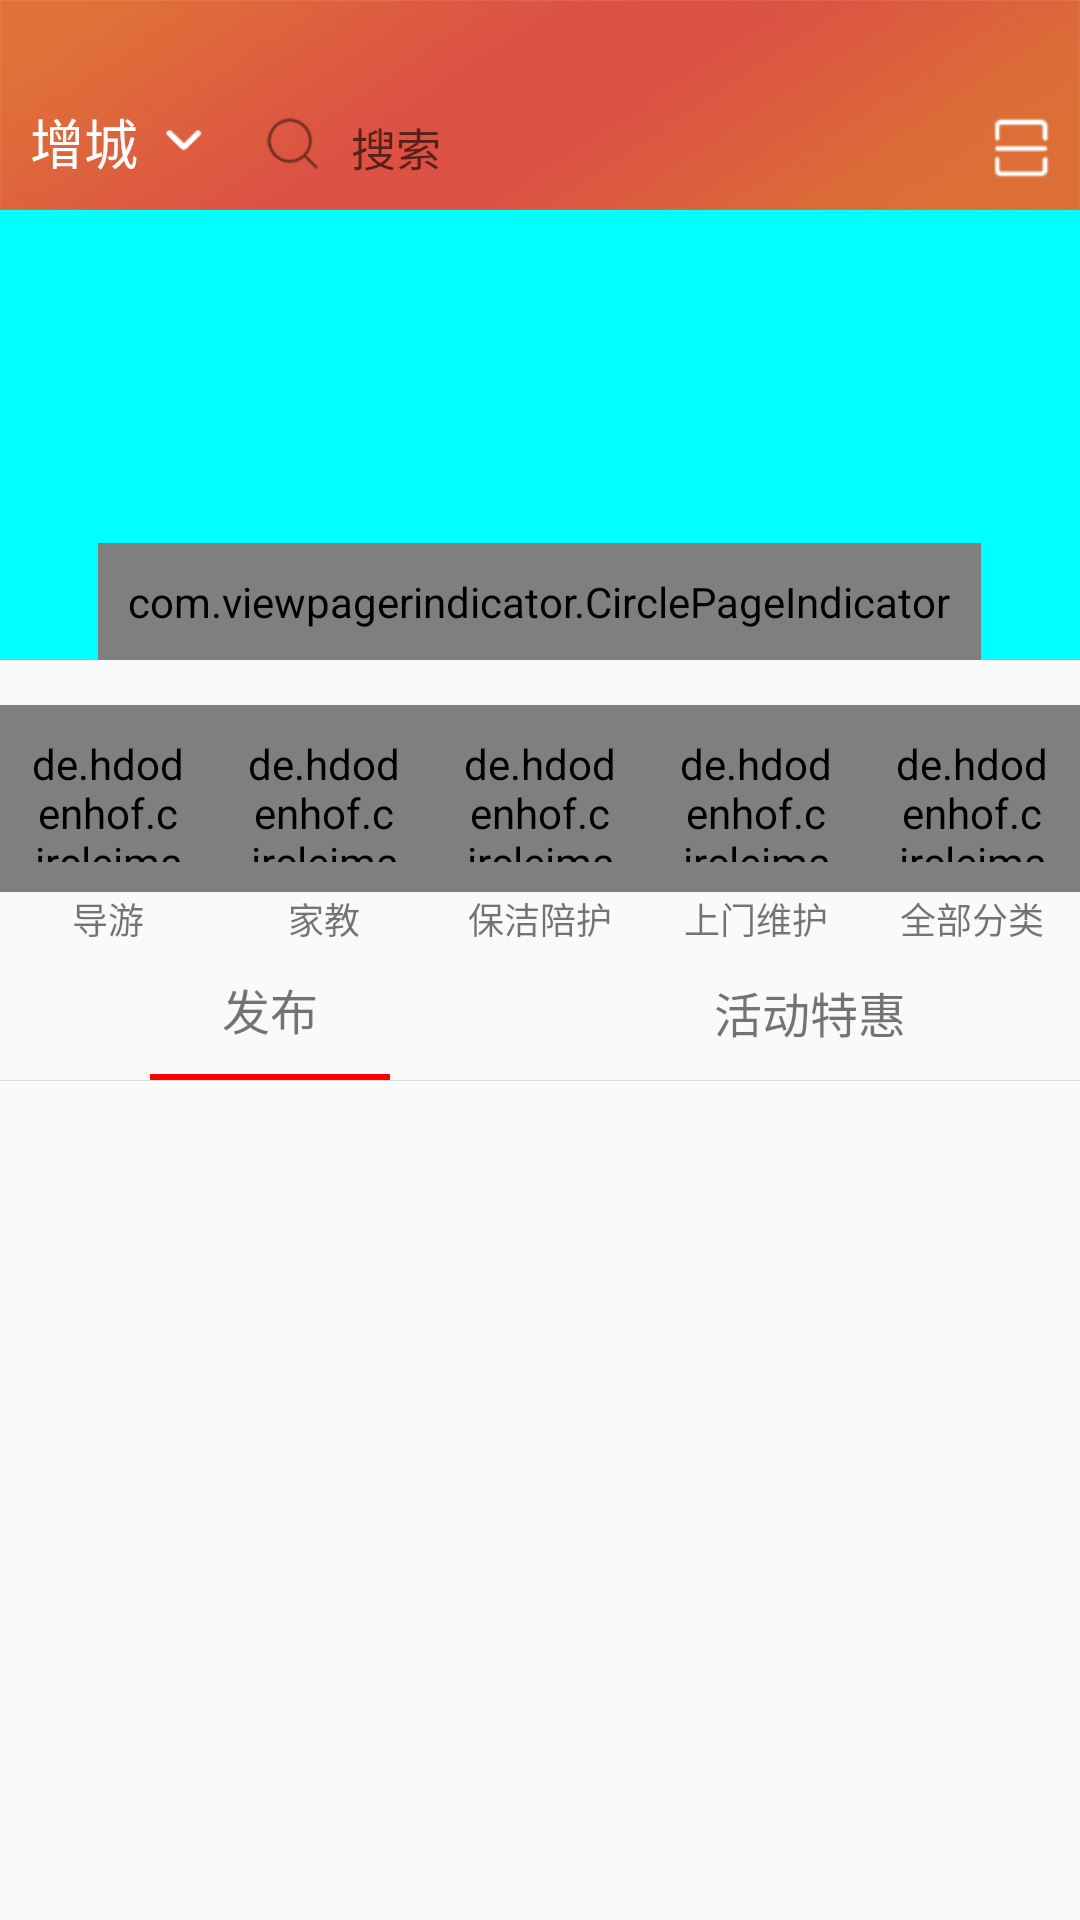

Named icons in this screenshot (1080px x 1920px) and their centers, [x,y]:
scan: [1021,147]
